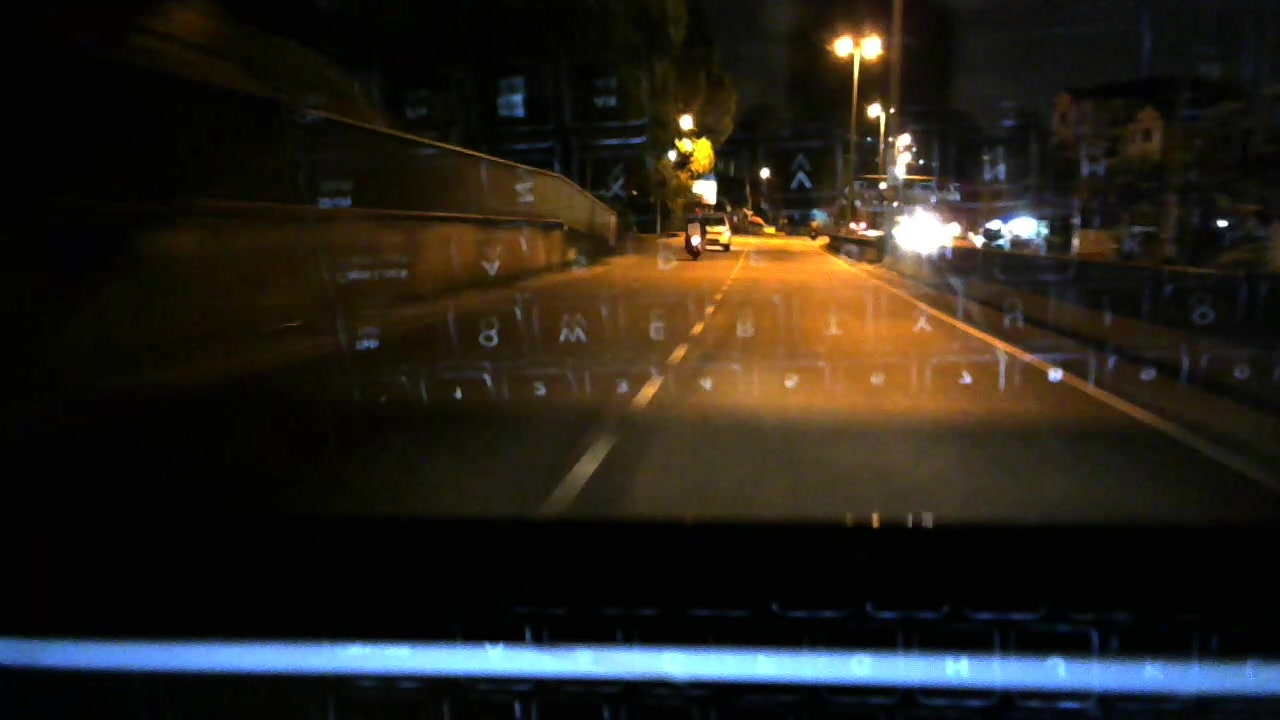Car: (687, 210, 739, 257)
